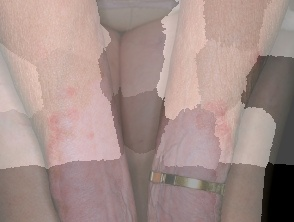vitiligo: (144, 23, 273, 222), (37, 52, 144, 222)
